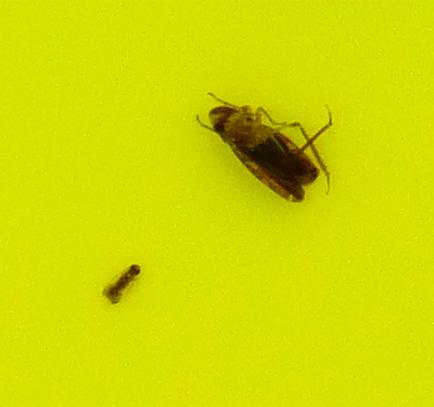Hemiptera: (200, 100, 334, 204), (100, 261, 143, 307)
